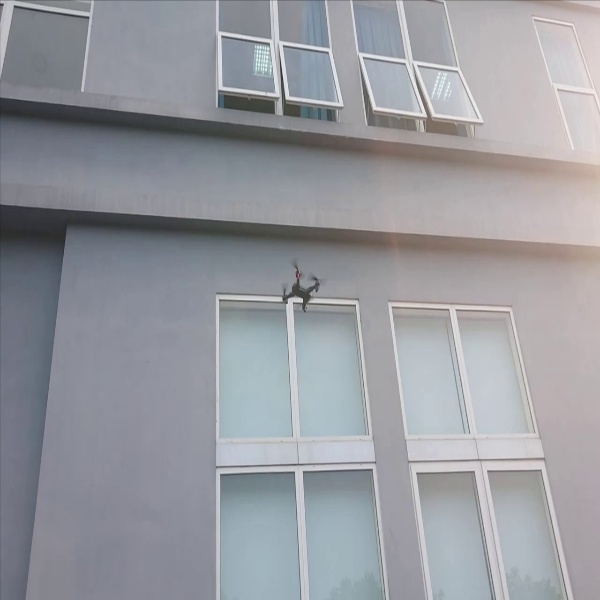drone: (275, 258, 327, 318)
